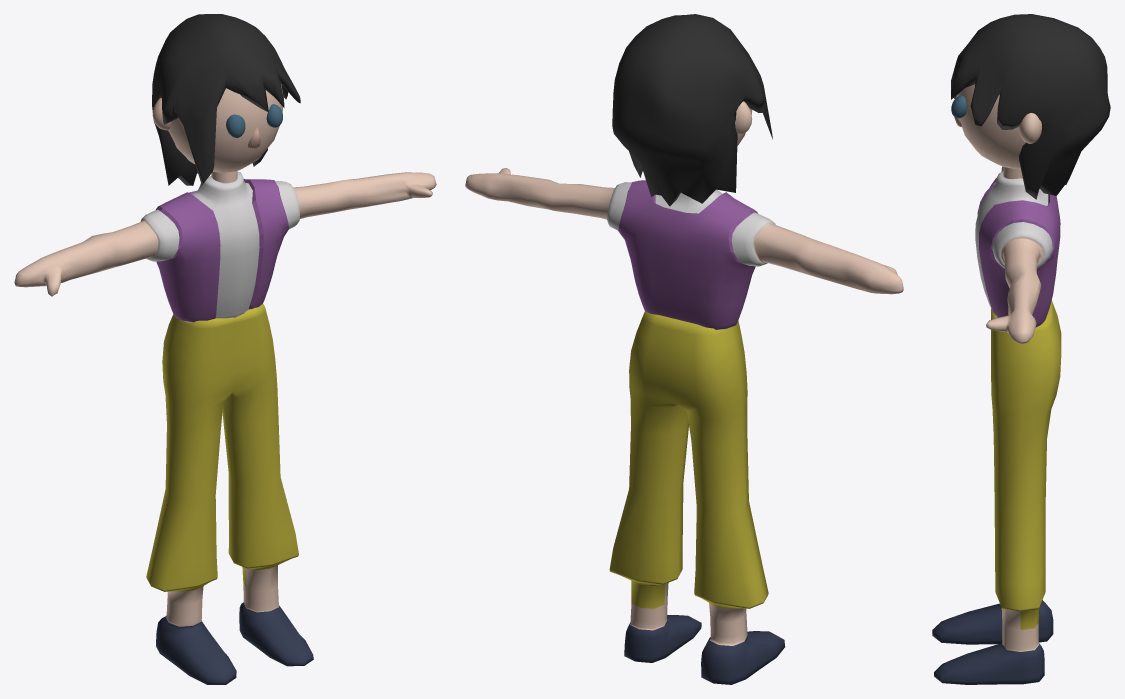
The model's file is walkingNPC#2.fbx.
3 views of the same model, side by side, from view 1: azimuth 30°, elevation 25°; view 2: azimuth 150°, elevation 25°; view 3: azimuth 270°, elevation 25° (orthographic). The views are drawn at different scales.
Visible parts, largest first — view 1: pCube46, lobby_boy_body2, polySurface67; view 2: pCube46, lobby_boy_body2, polySurface67; view 3: pCube46, polySurface67, lobby_boy_body2.
Boxes of the visible parts, x1,y1,x2,y2 form: pCube46: (146, 304, 313, 684); lobby_boy_body2: (14, 172, 436, 322); polySurface67: (152, 14, 300, 185); pCube46: (609, 311, 785, 684); lobby_boy_body2: (465, 168, 903, 329); polySurface67: (612, 14, 772, 206); pCube46: (932, 300, 1061, 684); polySurface67: (951, 14, 1110, 199); lobby_boy_body2: (975, 166, 1060, 343).
Size of the model in its own units: 28.89 by 40.81 by 10.31.
